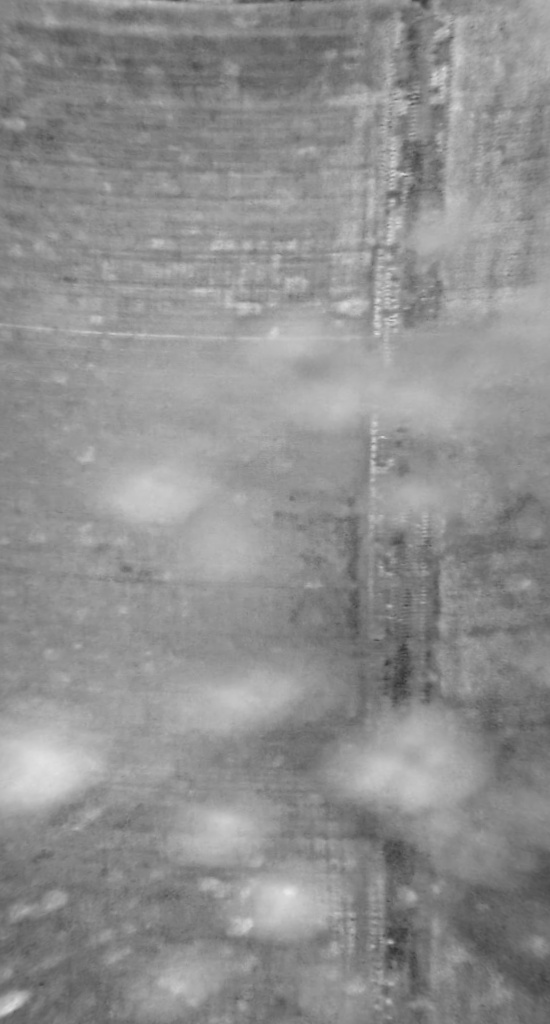splice: (359, 1, 456, 1021)
